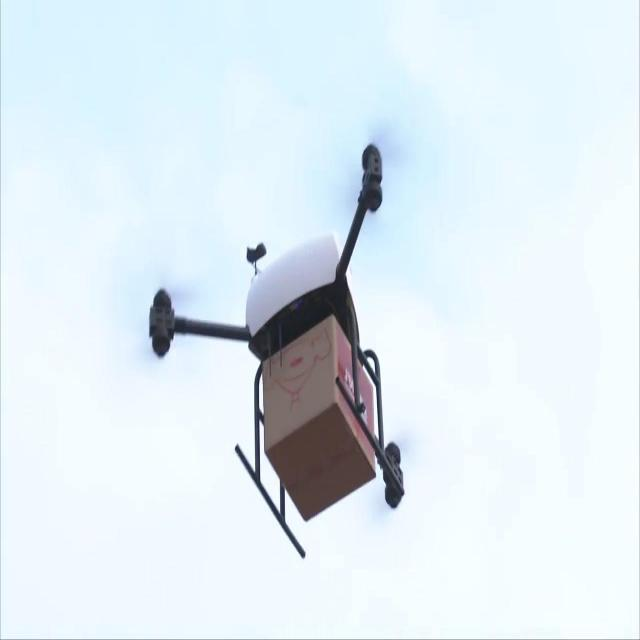UAV: (146, 126, 408, 561)
